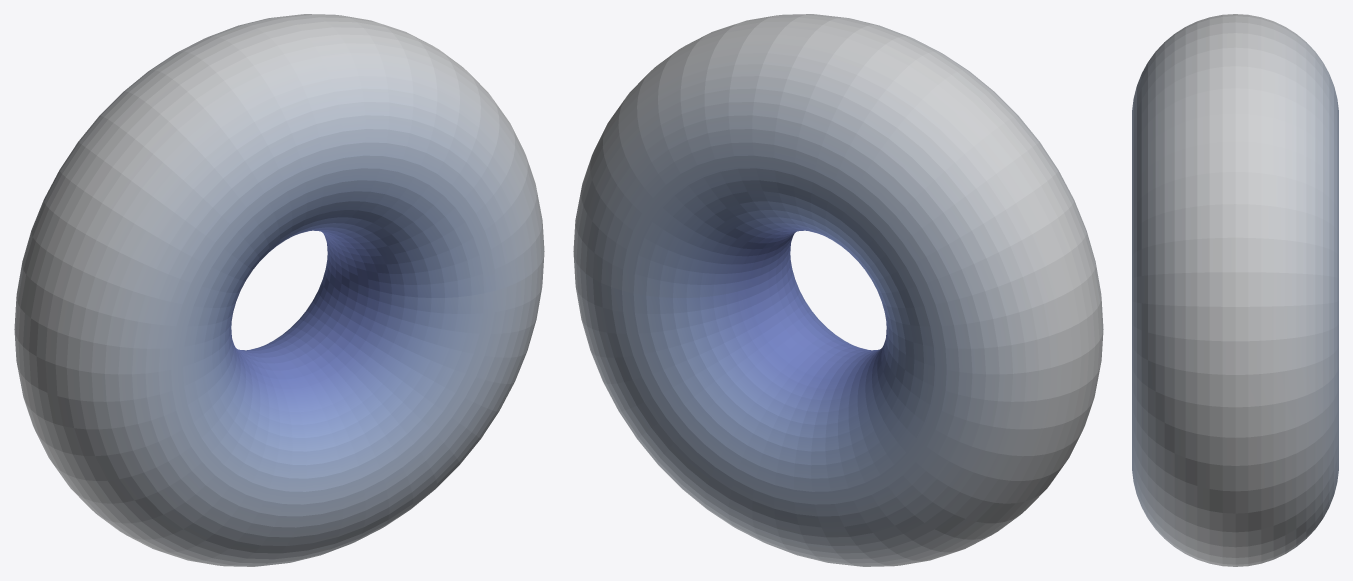
3 renders of one model, left to right at view 1: azimuth 30°, elevation 25°; view 2: azimuth 150°, elevation 25°; view 3: azimuth 270°, elevation 25°, orthographic. The views are drawn at different scales.
Visible parts, largest first — view 1: world; view 2: world; view 3: world.
Boxes of the visible parts, <box> form: world: <box>14,14,544,566</box>; world: <box>573,14,1103,566</box>; world: <box>1132,14,1338,566</box>.
Bounding box in the file's own units: 20.27 × 20.23 × 7.59.
